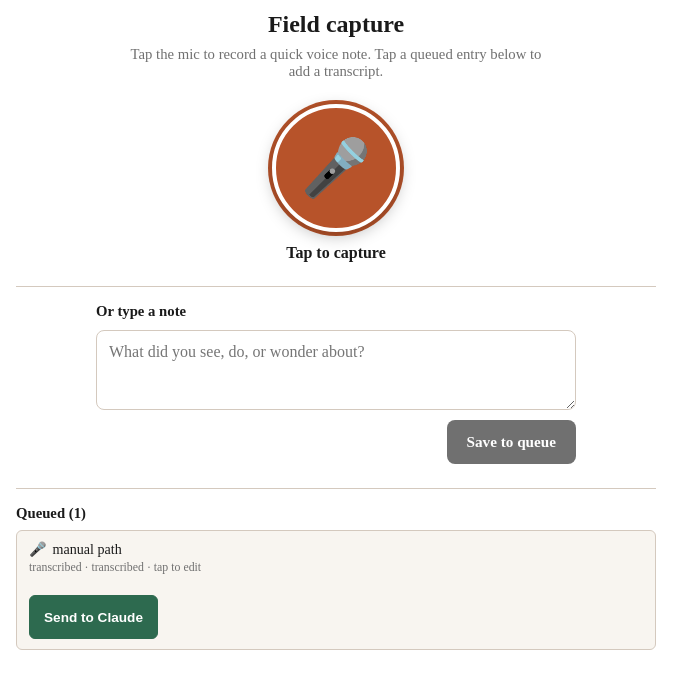
Test: FieldCapture (Inc 2 Bite 7 — one-pass capture tile UX) › tile Send manual fallback when share + clipboard absent
The image size is (673, 686).
Step 1. Click the button with test id "field-queue-item-send" → {"x": 94, "y": 617}, box [29, 595, 158, 639]
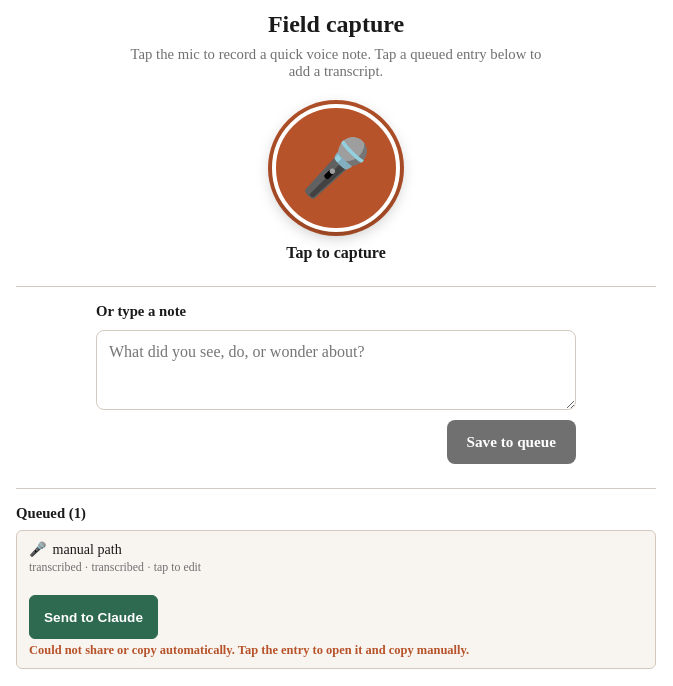
Result: the message with test id "field-queue-item-send-status" shows "Could not share or copy" at [29, 643, 469, 657]
